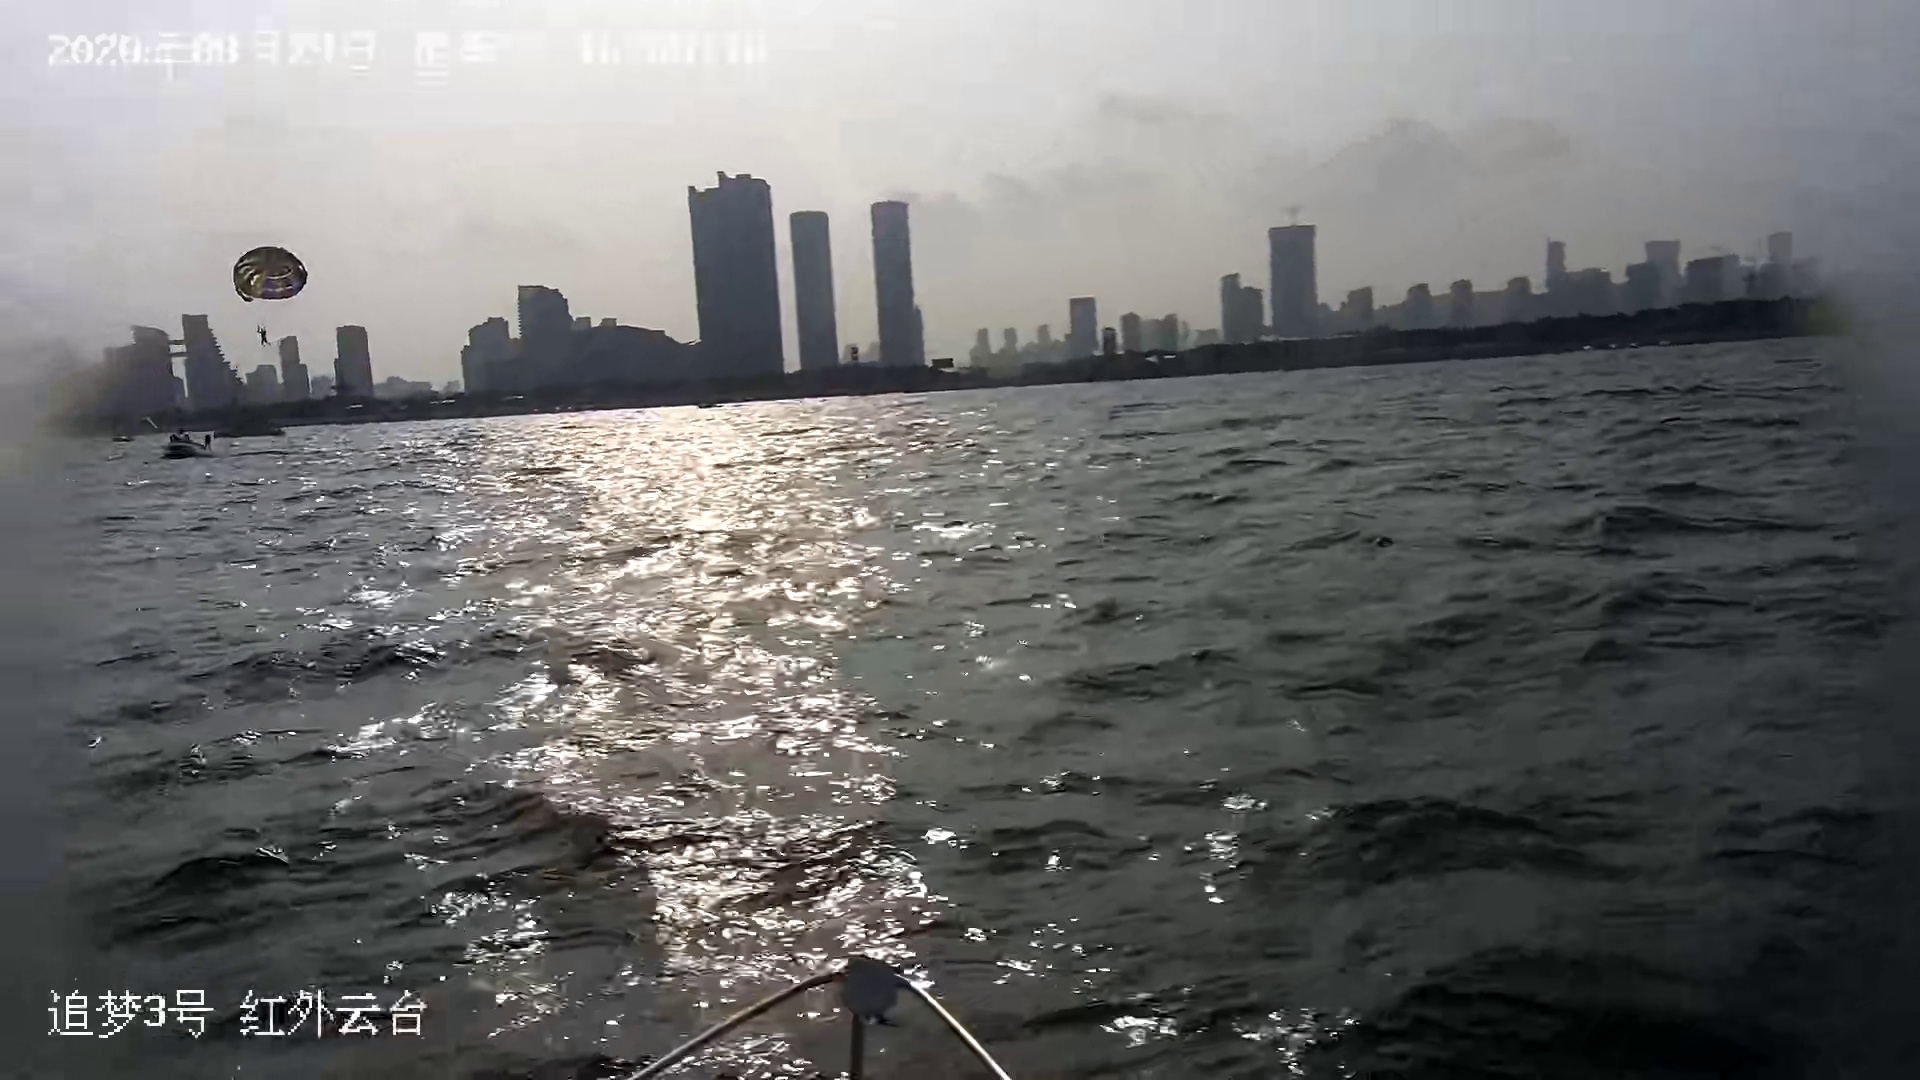barrier: (154, 423, 218, 469)
coast: (36, 169, 1920, 433)
